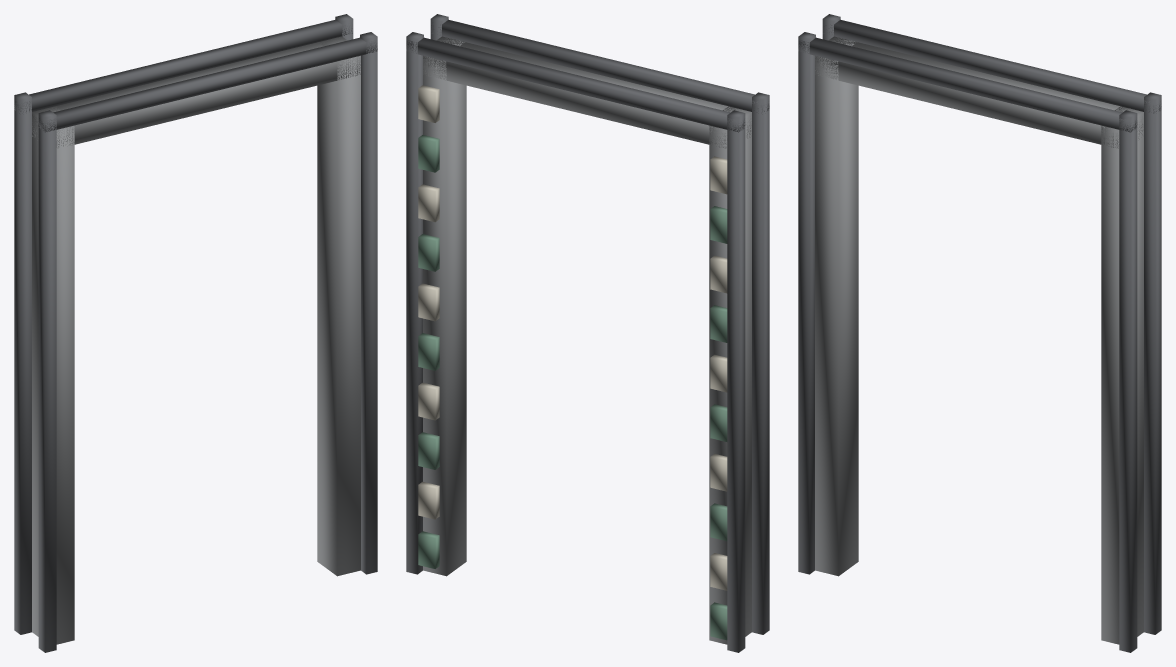
File: doorway_tile_return_w122_h220_d16.glb
3 renders of one model, left to right at view 1: azimuth 30°, elevation 25°; view 2: azimuth 150°, elevation 25°; view 3: azimuth 330°, elevation 25°, orthographic.
Visible parts, largest first — view 1: world; view 2: world; view 3: world.
Part boxes in pixels (x1,y1,x2,y2): world: (14,14,377,652); world: (406,14,769,652); world: (798,14,1161,652).
Bounding box in the file's own units: 1.55 × 2.38 × 0.2496.
